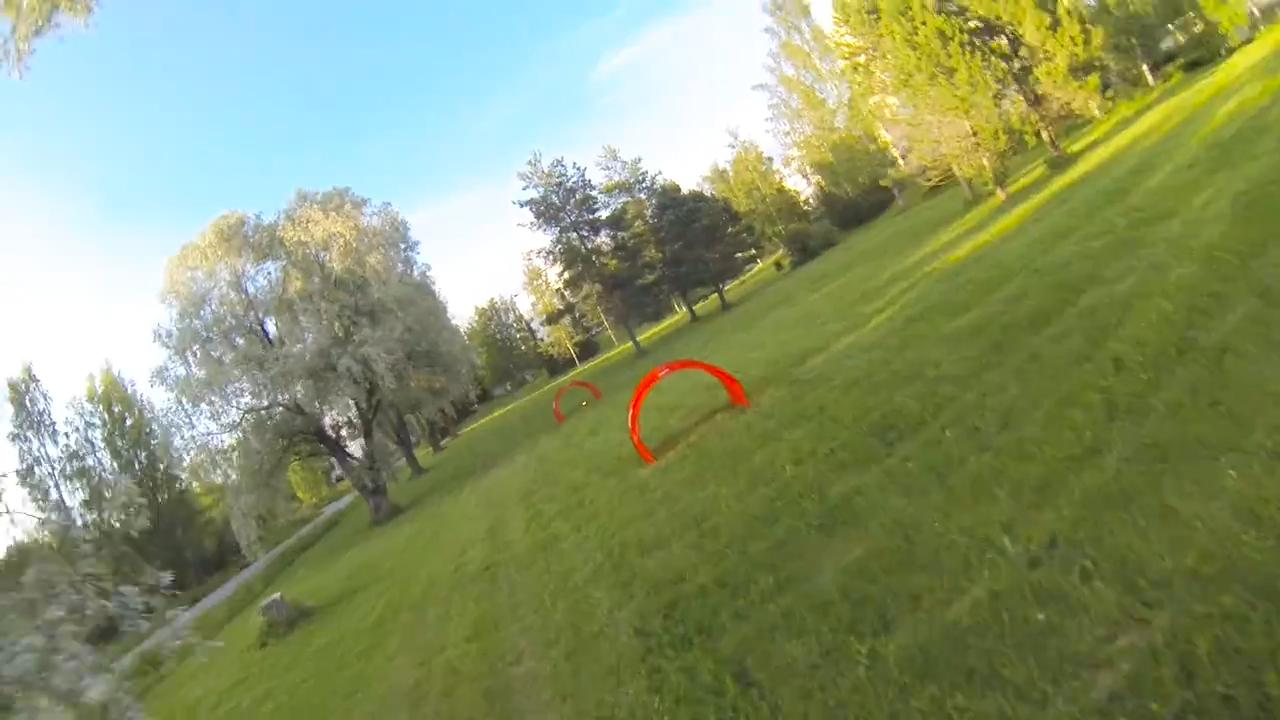gate: (620, 355, 754, 465)
